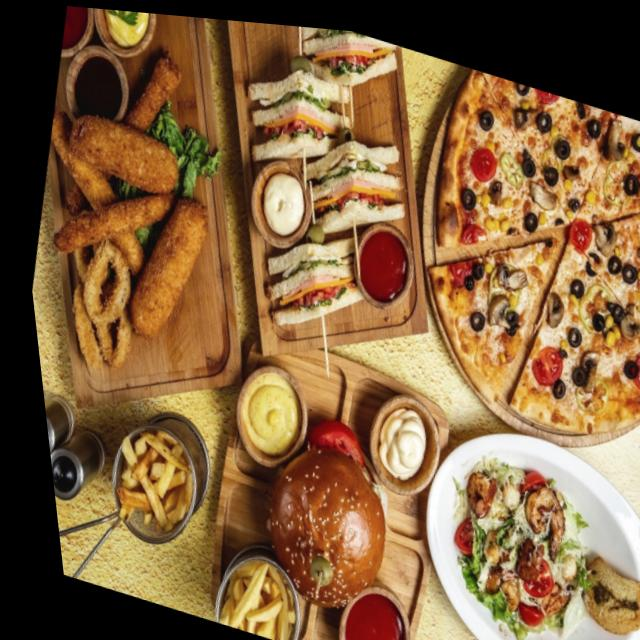burger: (228, 394, 403, 620)
pizza: (370, 46, 640, 460)
